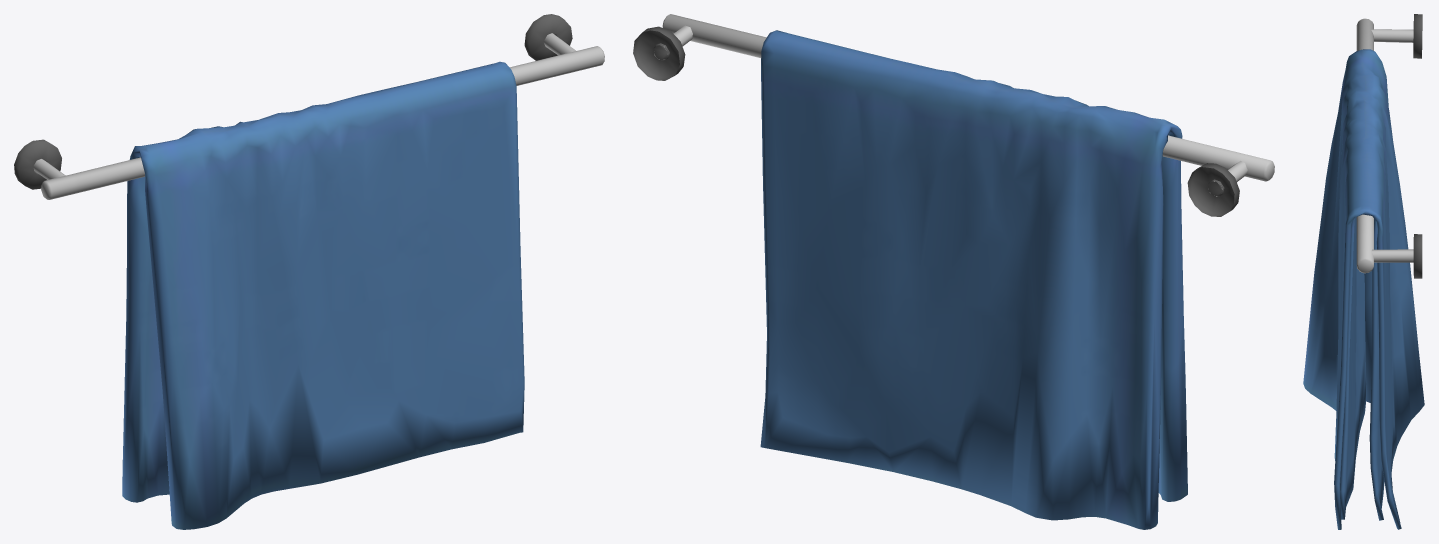
Rendered from cargo_towels.glb.
The picture shows the model from 3 angles, left to right: view 1: azimuth 30°, elevation 25°; view 2: azimuth 150°, elevation 25°; view 3: azimuth 270°, elevation 25°; orthographic projection. The views are drawn at different scales.
Parts seen in each view (by area): view 1: KB3D_API_BldgPartTowelBar_A_Main; view 2: KB3D_API_BldgPartTowelBar_A_Main; view 3: KB3D_API_BldgPartTowelBar_A_Main.
Boxes of the visible parts, <box> form: KB3D_API_BldgPartTowelBar_A_Main: <box>14,14,604,529</box>; KB3D_API_BldgPartTowelBar_A_Main: <box>633,14,1274,529</box>; KB3D_API_BldgPartTowelBar_A_Main: <box>1303,14,1424,529</box>.
Size of the model in its own units: 0.7 by 0.4504 by 0.1494.
2 materials, 2 textured.
